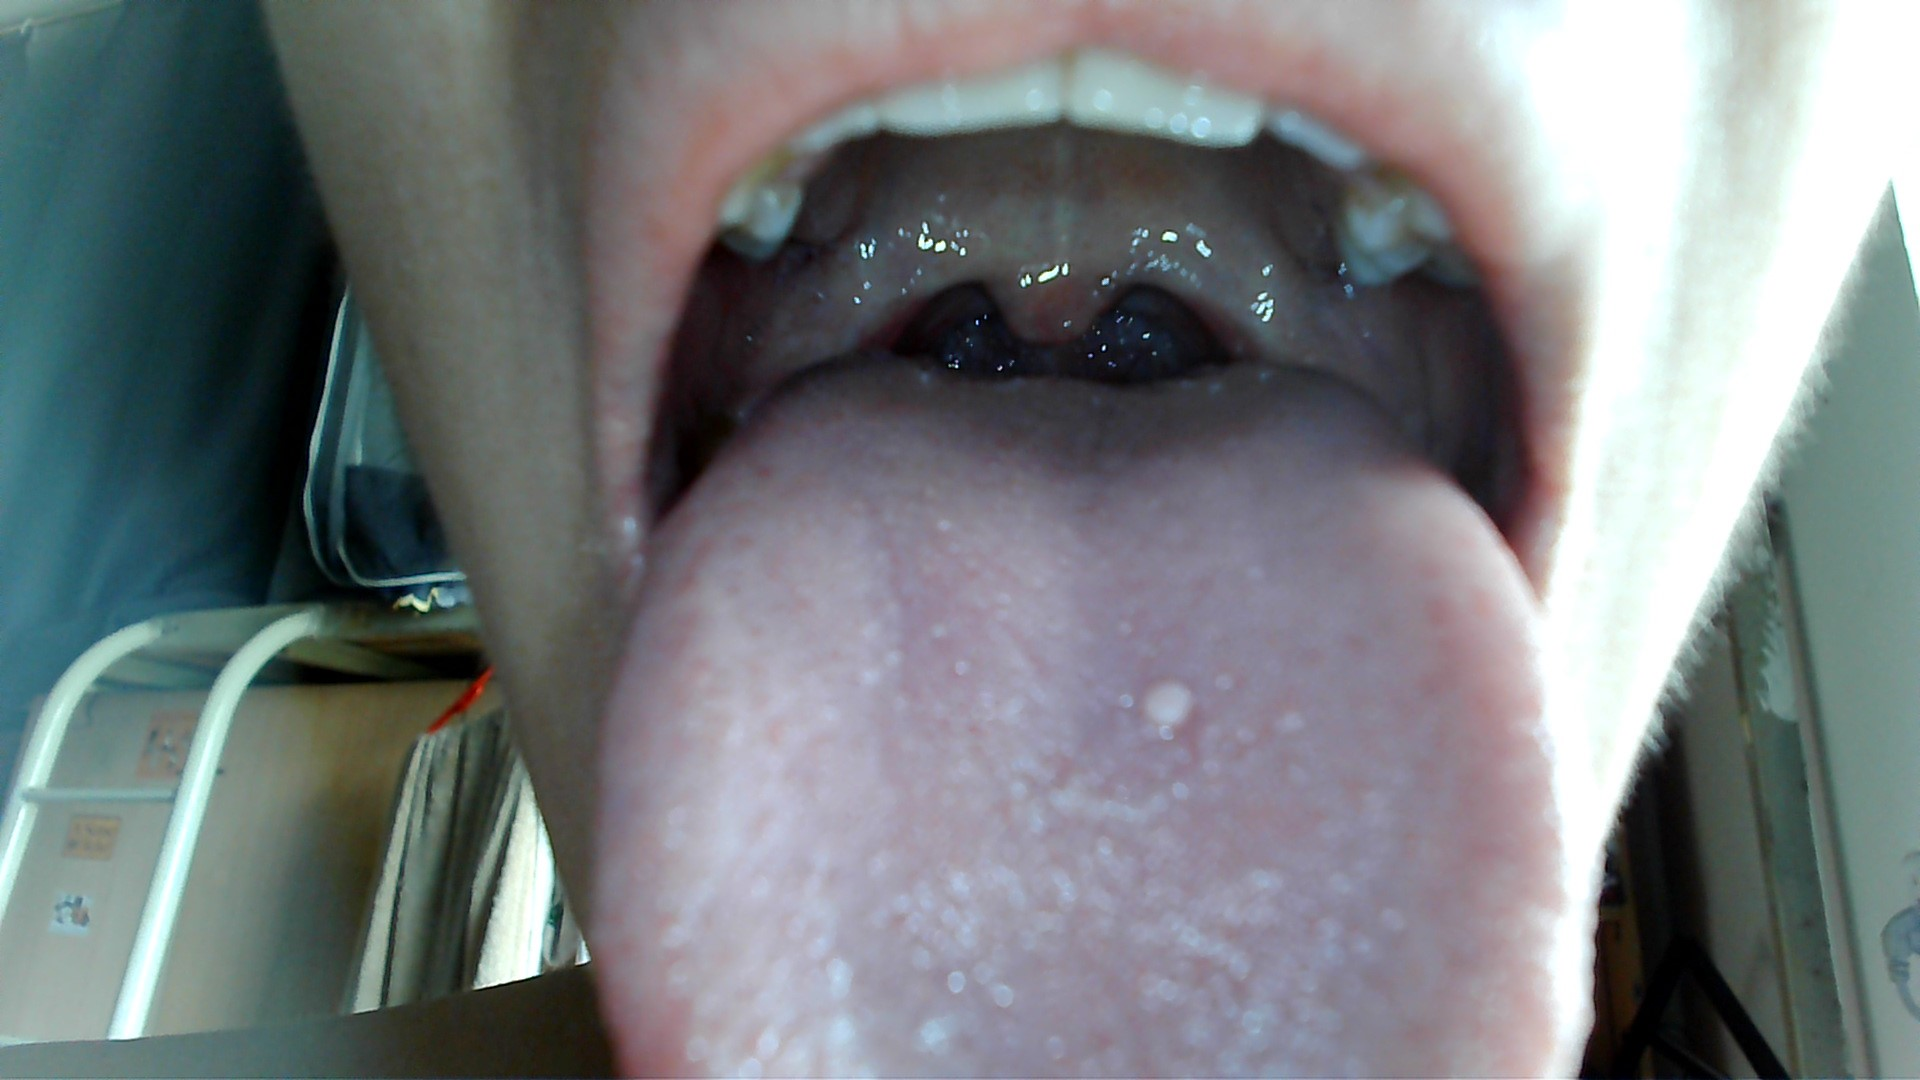throat: (1126, 264, 1282, 360), (837, 268, 990, 356)
